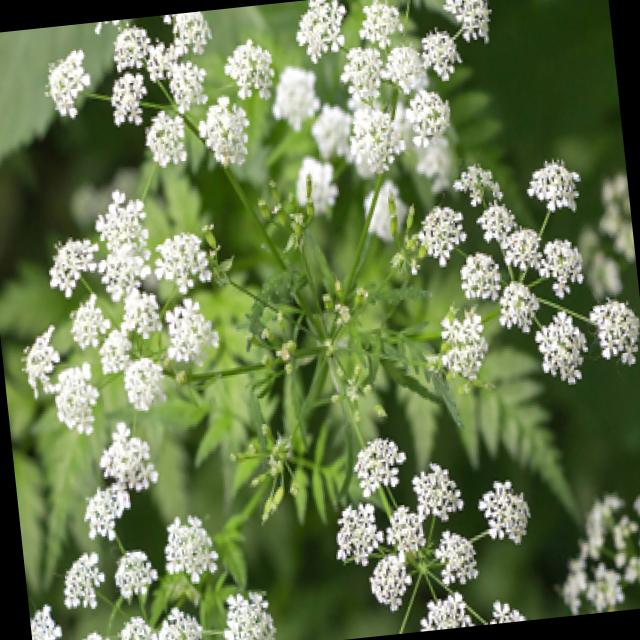Poisonous-Hemlock: (46, 0, 640, 439), (12, 390, 640, 640)
